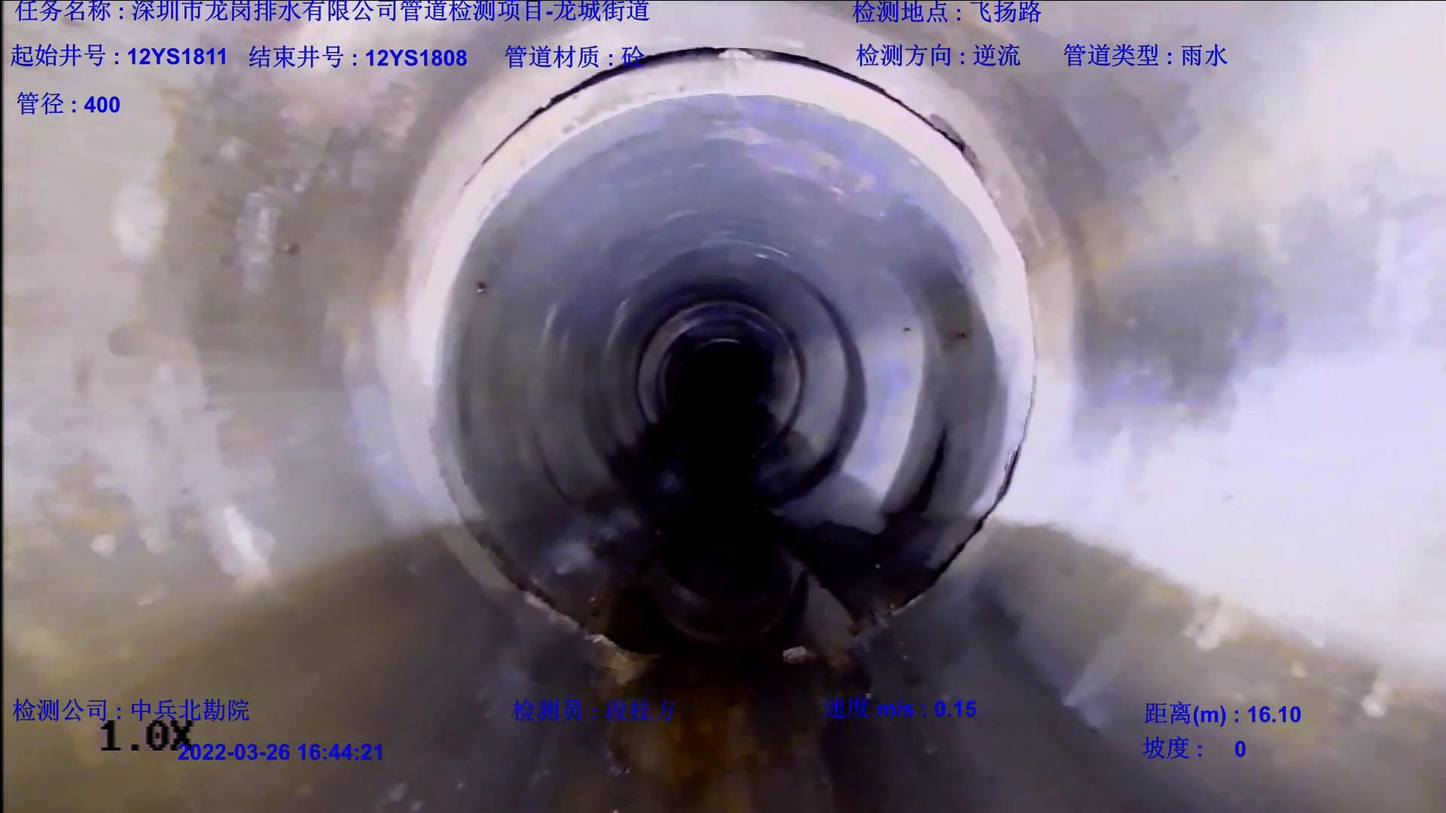CKTJ: (409, 49, 1032, 367)
